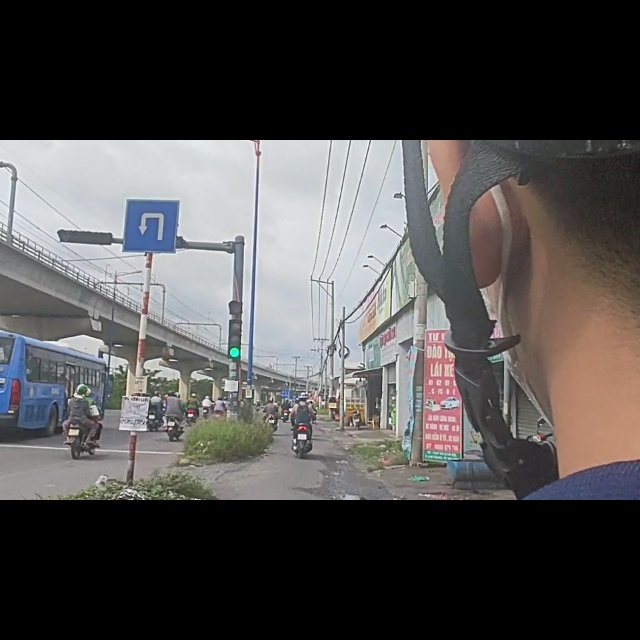bien_chi_dan: (122, 95, 185, 215)
